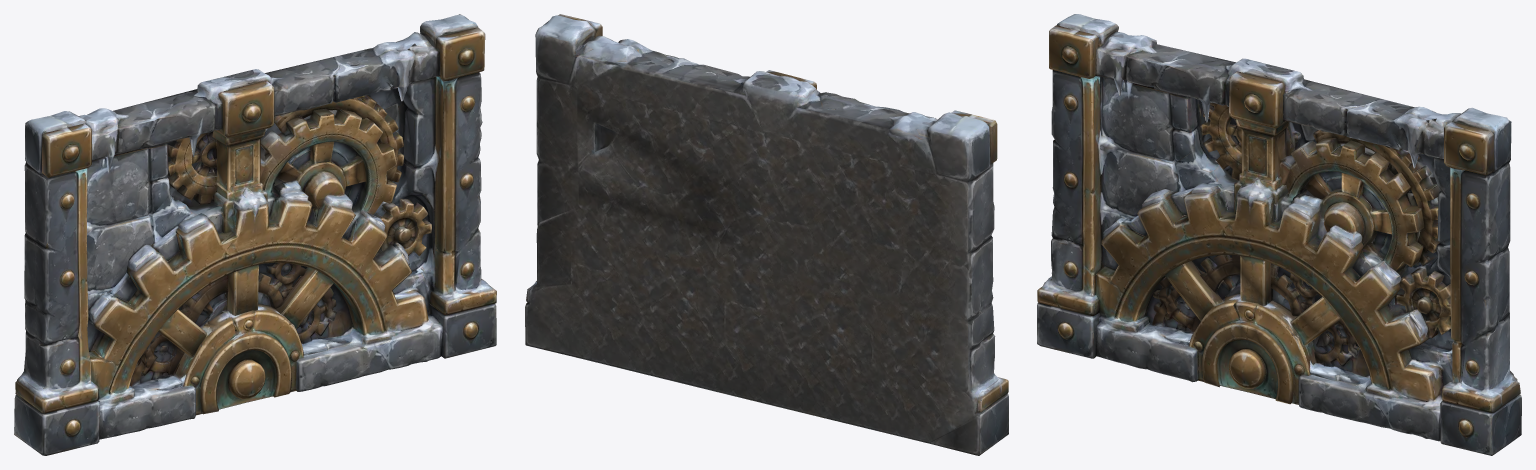
The model's file is tower_gear_wall.glb.
3 renders of one model, left to right at view 1: azimuth 30°, elevation 25°; view 2: azimuth 150°, elevation 25°; view 3: azimuth 330°, elevation 25°, orthographic.
Bounding box in the file's own units: 0.9575 × 0.6455 × 0.1202.
1 material, 1 textured.
